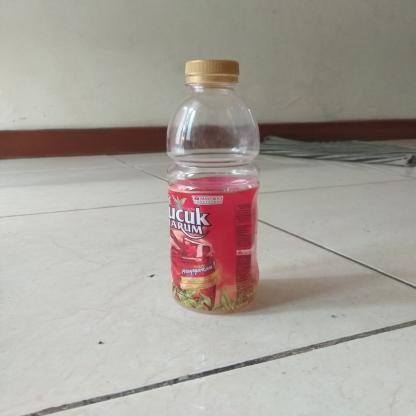bottle: (164, 55, 269, 312)
